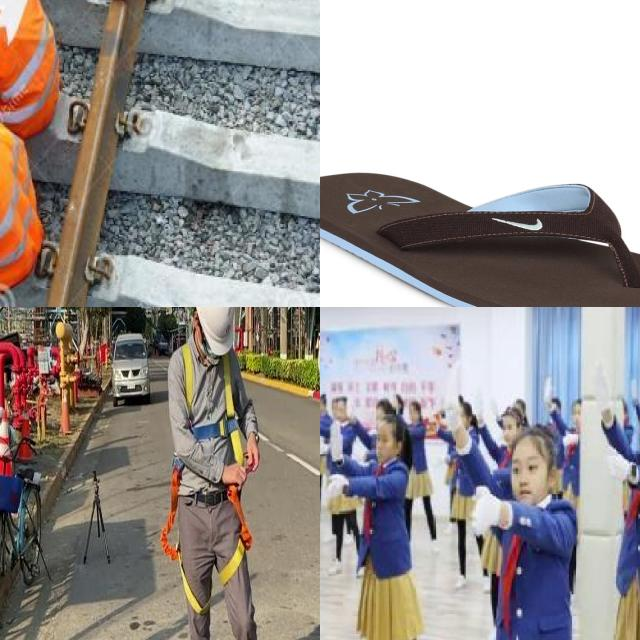Harness: (160, 458, 210, 616), (182, 344, 243, 464), (220, 486, 253, 586)
Sandals: (320, 170, 640, 307)
face_nomask: (509, 453, 549, 502), (373, 428, 395, 464)
hand_glove: (464, 479, 498, 541), (440, 371, 461, 427), (589, 361, 613, 407), (603, 442, 627, 479), (541, 371, 555, 410), (329, 419, 344, 455), (472, 387, 484, 422), (327, 472, 343, 498), (626, 375, 638, 402), (487, 392, 500, 416), (561, 426, 574, 448), (320, 439, 324, 454)
head_nohelmet: (500, 426, 552, 452), (374, 397, 400, 415), (496, 407, 523, 424), (375, 418, 403, 433)
person: (436, 364, 585, 640), (321, 413, 438, 640), (587, 359, 640, 640), (0, 71, 52, 307), (0, 0, 72, 142)
shoes: (321, 557, 349, 581), (450, 569, 469, 592)
vest: (0, 89, 49, 300), (0, 0, 62, 138)
